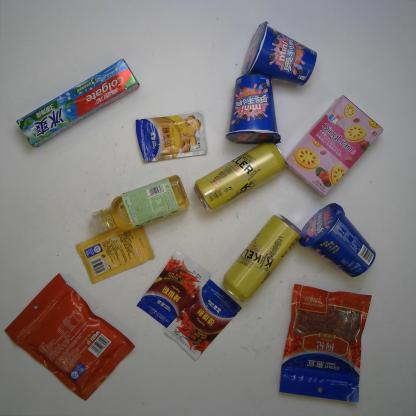Alcohol: (190, 137, 295, 213), (220, 214, 307, 304)
Dessert: (276, 95, 390, 201), (296, 202, 383, 280), (238, 22, 324, 84), (226, 73, 289, 145)
Dried Fruit: (2, 274, 146, 409), (280, 278, 374, 408)
Drink: (88, 171, 195, 238)
Personal Hygiene: (14, 56, 142, 149)
Seasoner: (162, 278, 246, 362), (136, 246, 214, 330), (71, 226, 159, 286), (132, 109, 214, 166)
